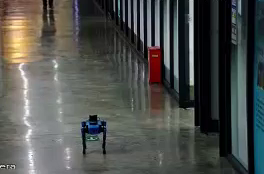robot dog: (78, 112, 111, 158)
